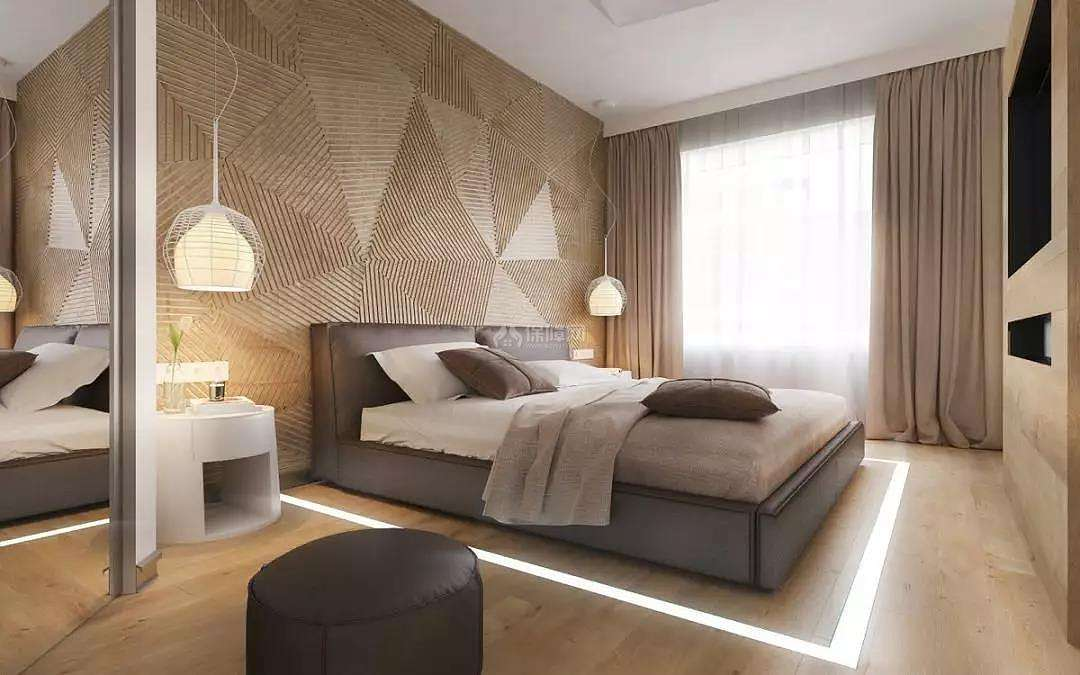床: (336, 365, 876, 574)
枕头: (369, 339, 599, 406), (648, 380, 793, 423)
灯: (161, 187, 260, 301), (585, 274, 631, 329)
